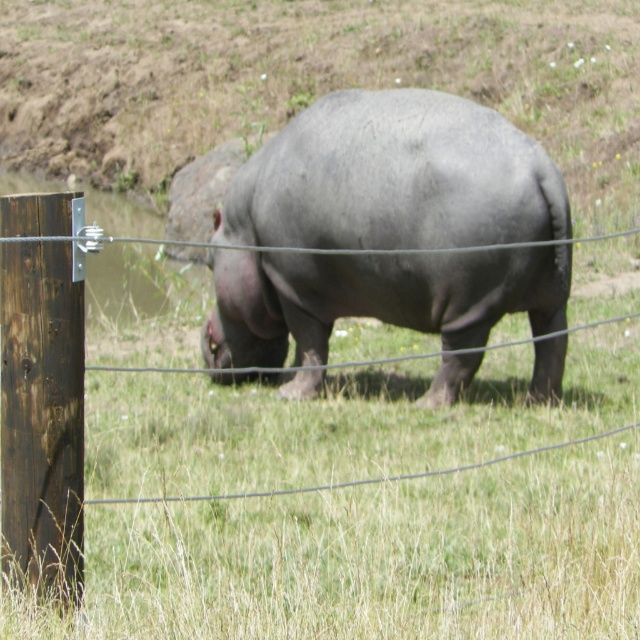Hippopotamus: (202, 86, 570, 409)
